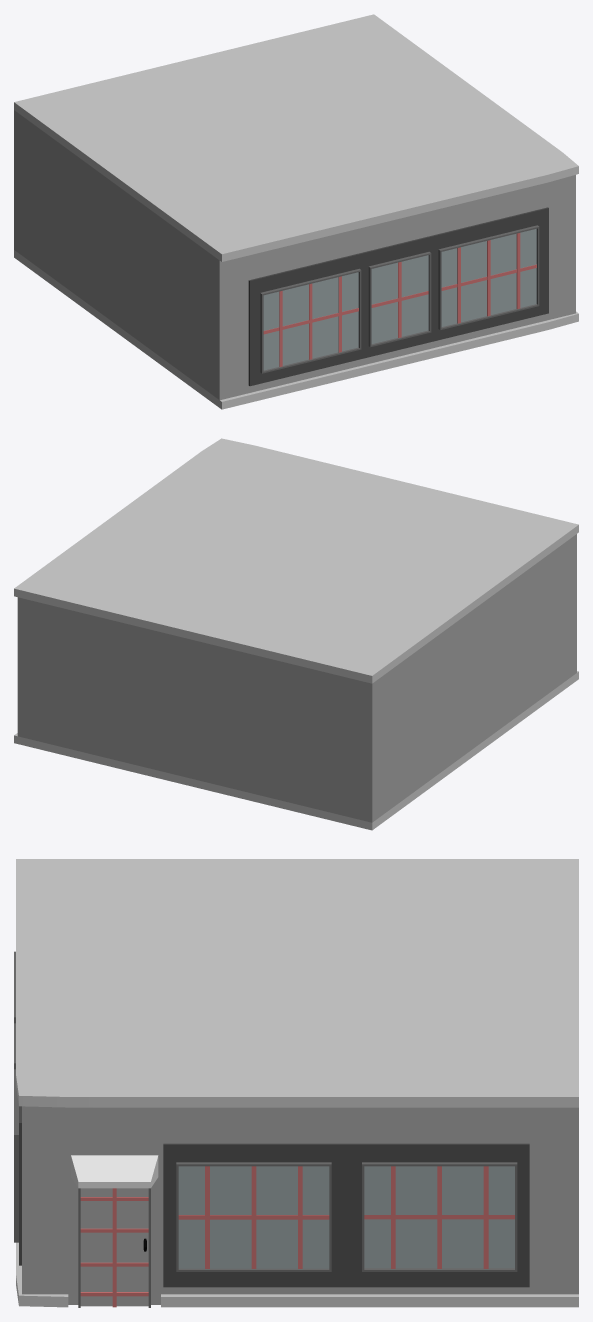
File: Building_20.fbx
The picture shows the model from 3 angles, top to bottom: view 1: azimuth 30°, elevation 25°; view 2: azimuth 150°, elevation 25°; view 3: azimuth 270°, elevation 25°; orthographic projection. The views are drawn at different scales.
Parts seen in each view (by area): view 1: pCube43; view 2: pCube43; view 3: pCube43.
Boxes of the visible parts, x1=… form: pCube43: x1=14, y1=14, x2=578, y2=409; pCube43: x1=14, y1=438, x2=578, y2=830; pCube43: x1=14, y1=859, x2=578, y2=1307.
Size of the model in its own units: 12.57 by 5 by 12.17.
